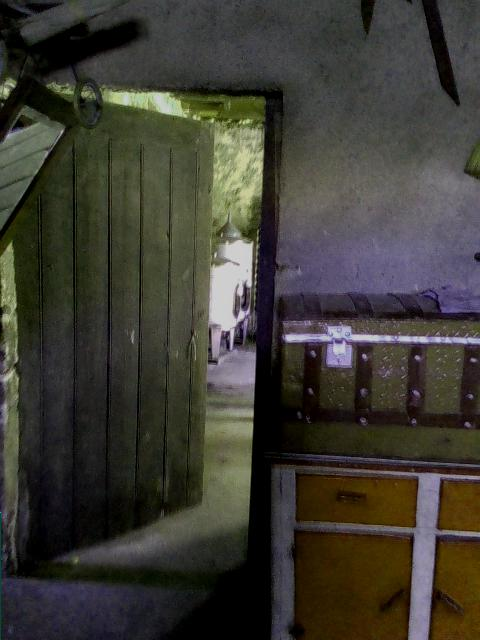semi_door: (6, 79, 282, 590)
